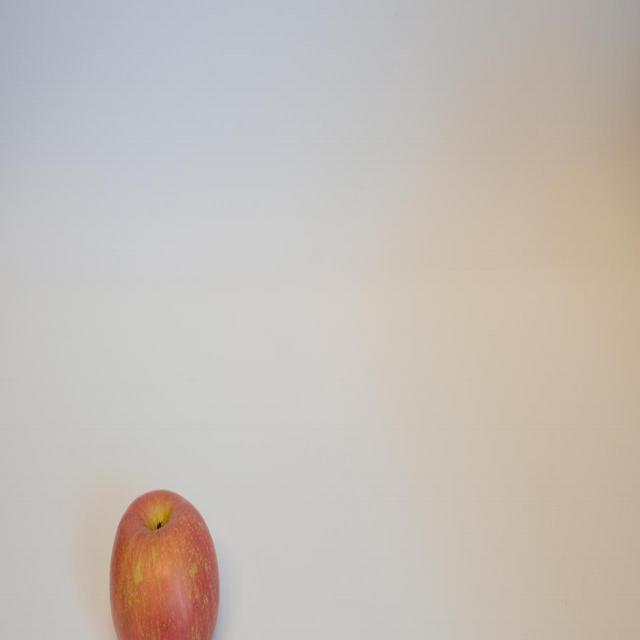apple: (109, 487, 221, 638)
